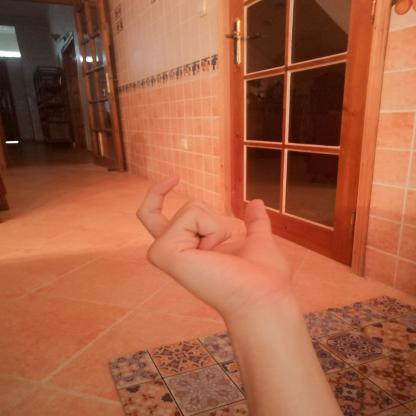NOON: (120, 166, 303, 325)
